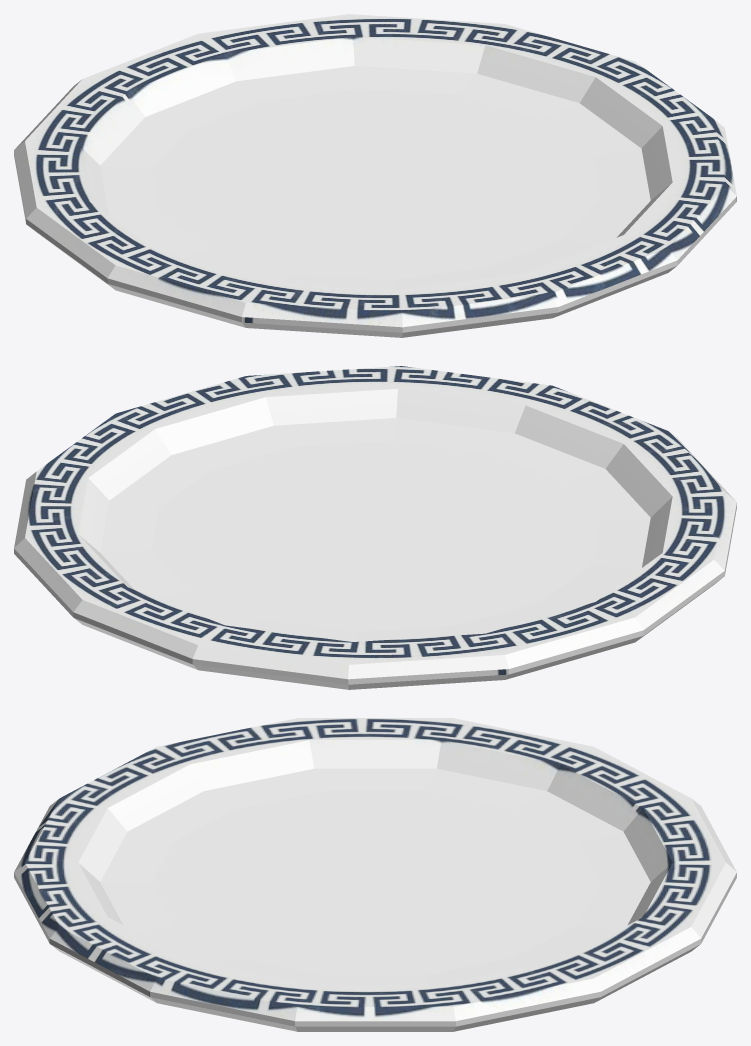
Rendered from Plate.fbx.
3 views of the same model, one above another, from view 1: azimuth 30°, elevation 25°; view 2: azimuth 150°, elevation 25°; view 3: azimuth 270°, elevation 25° (orthographic).
Parts seen in each view (by area): view 1: plate.004; view 2: plate.004; view 3: plate.004.
Boxes of the visible parts, left/top/right/bottom form: plate.004: left=14, top=14, right=736, bottom=337; plate.004: left=14, top=366, right=736, bottom=689; plate.004: left=14, top=718, right=736, bottom=1031.
Bounding box in the file's own units: 719 × 27.95 × 738.
